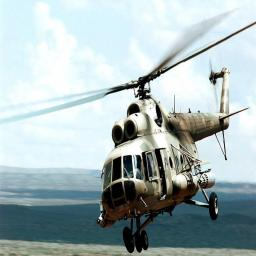helicopter: (58, 42, 250, 255)
